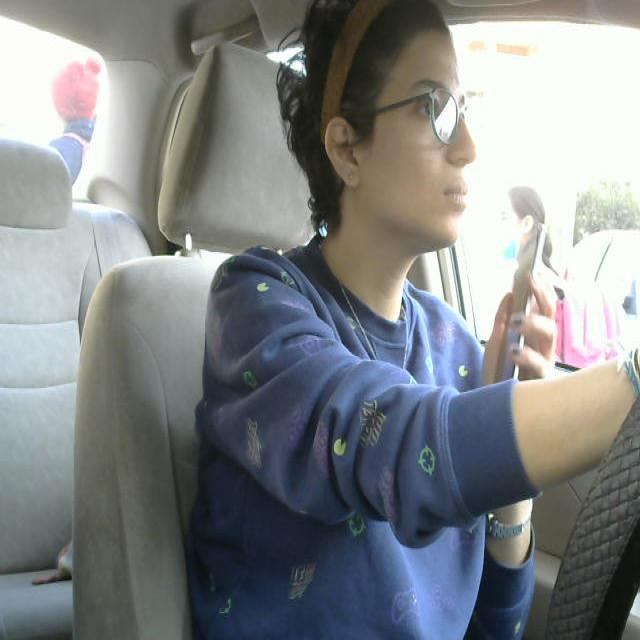mobile use: (493, 214, 553, 398)
